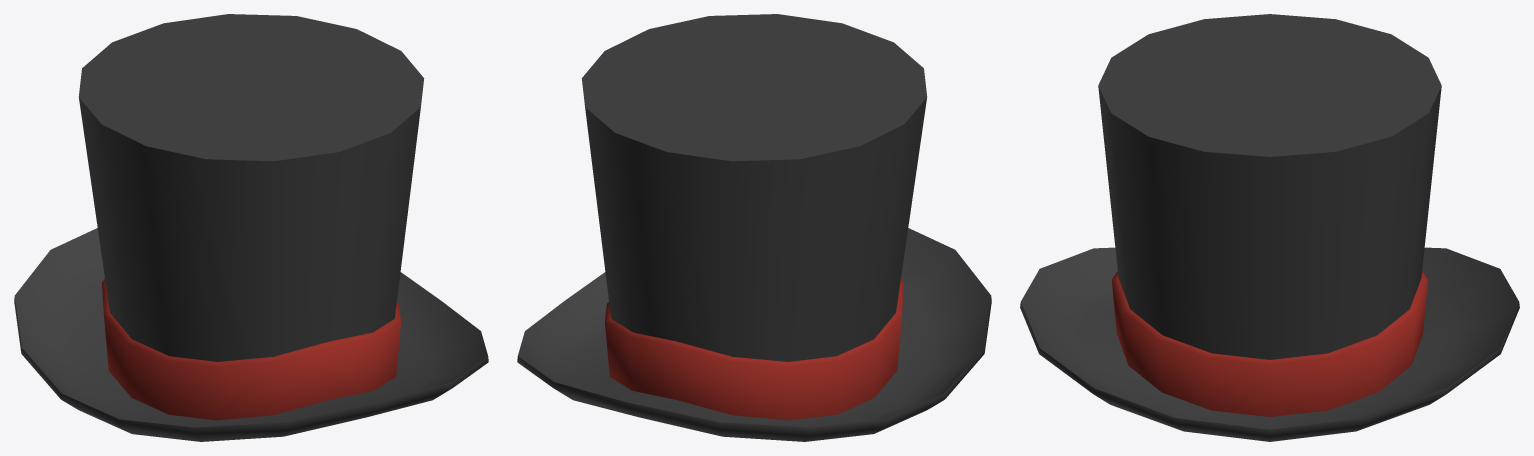
The model's file is top_hat.fbx.
The picture shows the model from 3 angles, left to right: view 1: azimuth 30°, elevation 25°; view 2: azimuth 150°, elevation 25°; view 3: azimuth 270°, elevation 25°; orthographic projection. The views are drawn at different scales.
Visible parts, largest first — view 1: top_hat; view 2: top_hat; view 3: top_hat.
Boxes of the visible parts, x1=… form: top_hat: x1=14, y1=14, x2=488, y2=441; top_hat: x1=517, y1=14, x2=991, y2=441; top_hat: x1=1020, y1=14, x2=1519, y2=441.
Size of the model in its own units: 147 by 105 by 171.
